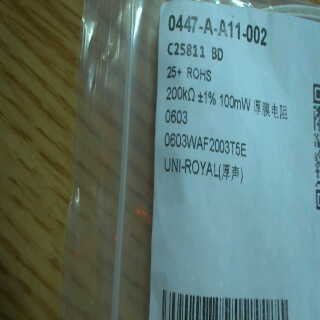200kR: (160, 84, 197, 101)
